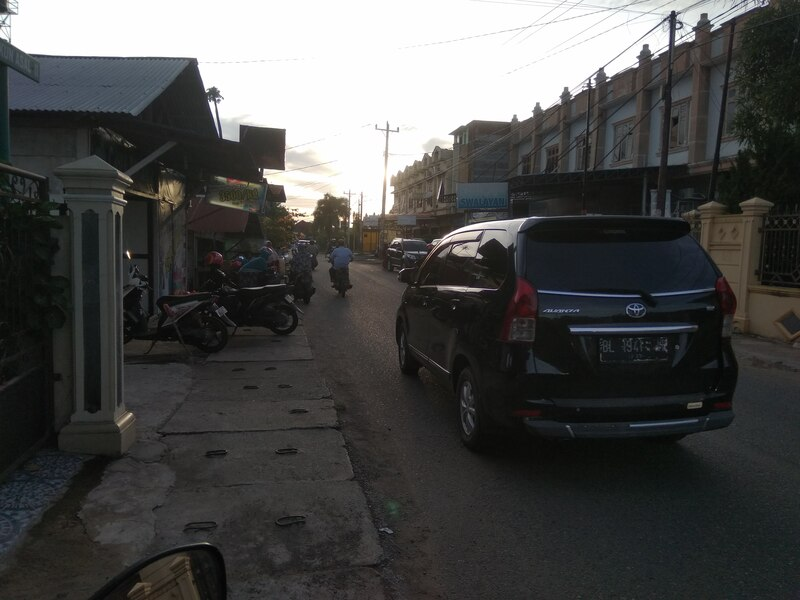car: (391, 211, 741, 467), (385, 234, 432, 277)
motorcycle: (126, 251, 239, 365), (198, 250, 309, 342)
